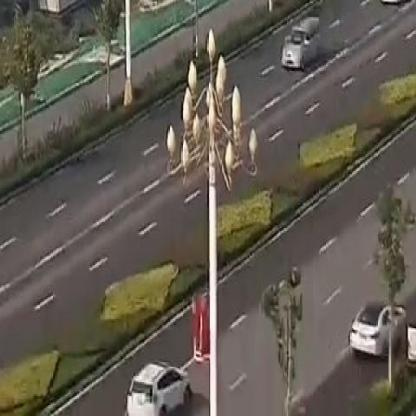other: (190, 284, 208, 354)
